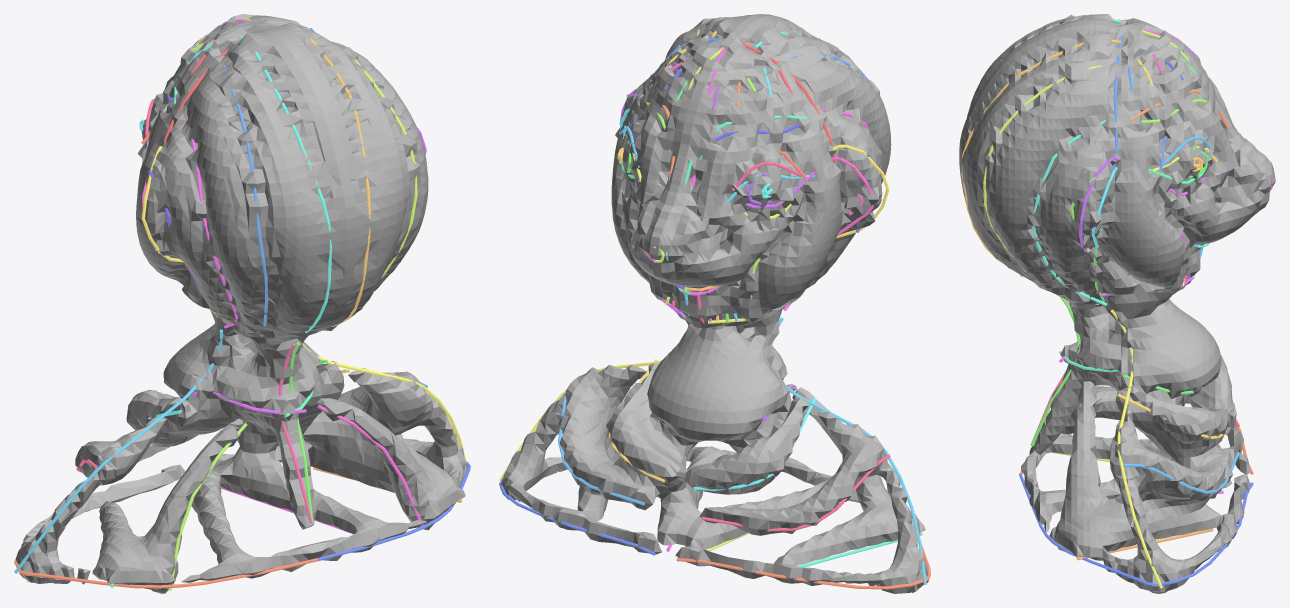
Rendered from author1_bust.gltf.
The picture shows the model from 3 angles, left to right: view 1: azimuth 30°, elevation 25°; view 2: azimuth 150°, elevation 25°; view 3: azimuth 270°, elevation 25°; orthographic projection. The views are drawn at different scales.
Size of the model in its own units: 0.6246 by 0.6932 by 0.4168.
